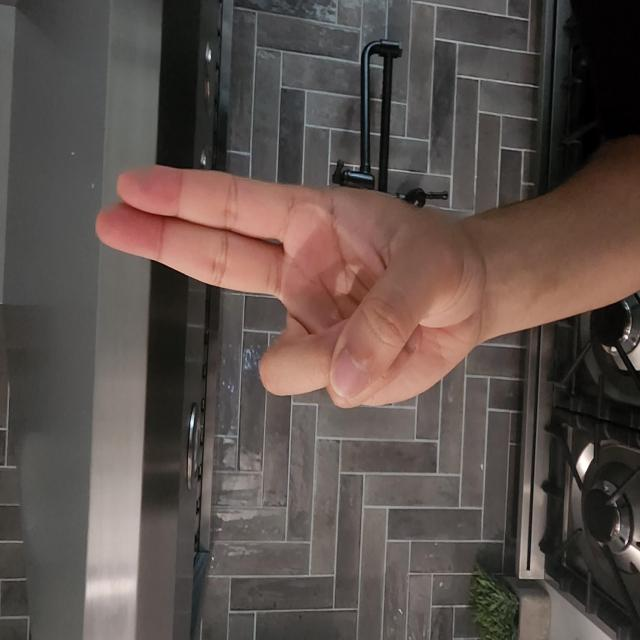U: (169, 116, 361, 640)
